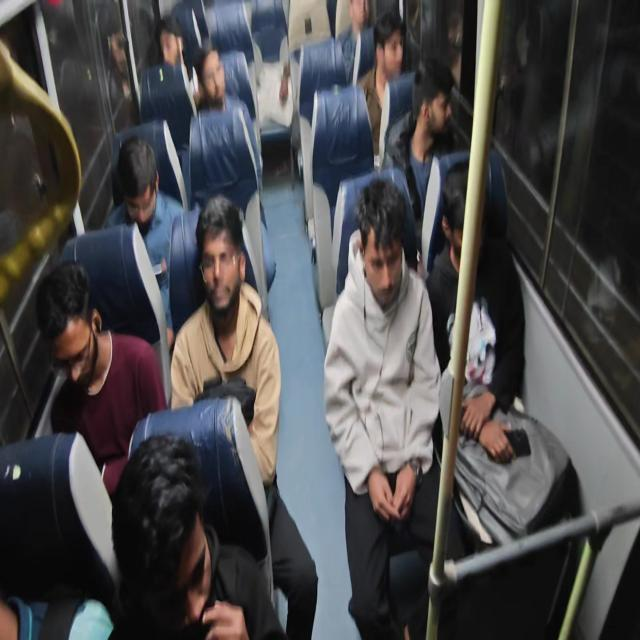person: (114, 439, 236, 630), (28, 256, 106, 394), (351, 178, 411, 303), (194, 192, 251, 323), (116, 123, 166, 237), (436, 156, 485, 264), (411, 52, 455, 153), (194, 39, 234, 115), (368, 11, 407, 84), (154, 9, 184, 80)
